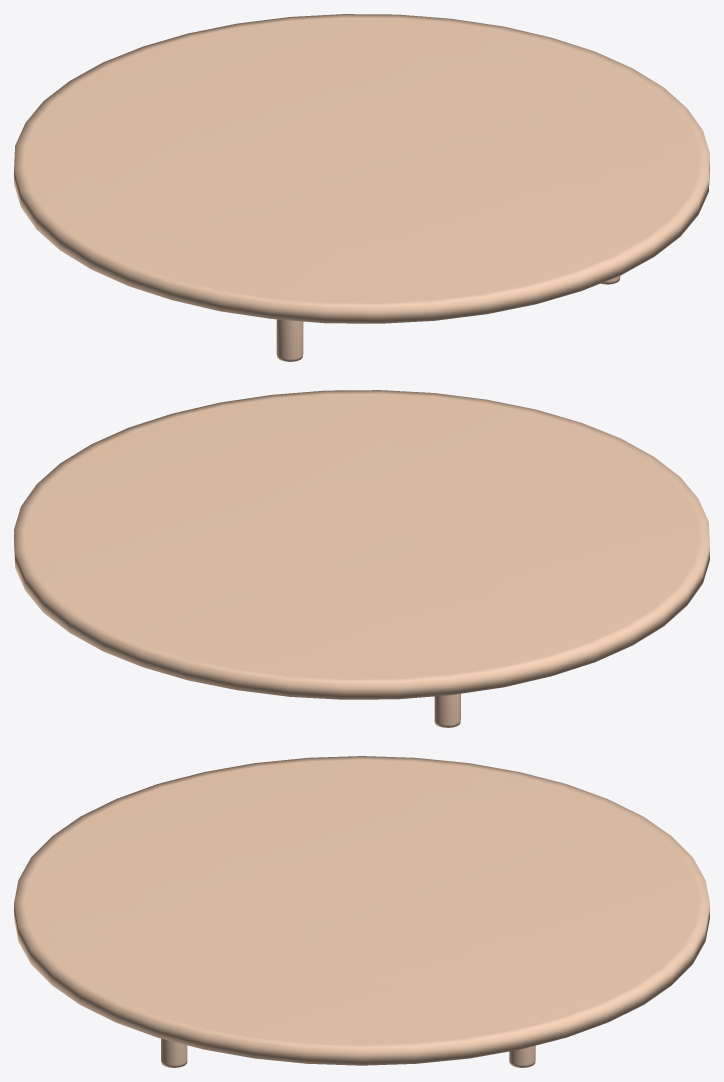
3 views of the same model, one above another, from view 1: azimuth 30°, elevation 25°; view 2: azimuth 150°, elevation 25°; view 3: azimuth 270°, elevation 25° (orthographic).
Visible parts, largest first — view 1: table; view 2: table; view 3: table.
Boxes of the visible parts, x1,y1,x2,y2 form: table: (14,14,709,361); table: (14,390,709,727); table: (14,756,709,1067).
Size of the model in its own units: 136 by 18.64 by 136.
